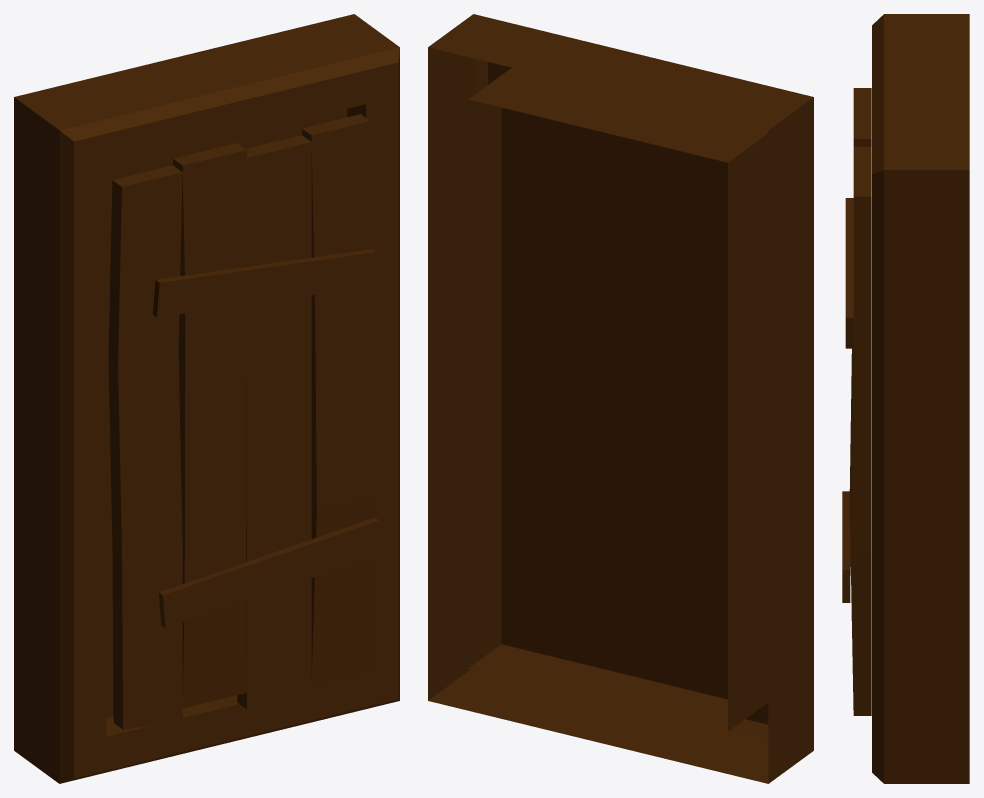
The model's file is Window_2.FBX.
The picture shows the model from 3 angles, left to right: view 1: azimuth 30°, elevation 25°; view 2: azimuth 150°, elevation 25°; view 3: azimuth 270°, elevation 25°; orthographic projection. The views are drawn at different scales.
Visible parts, largest first — view 1: Object09; view 2: Object09; view 3: Object09.
Boxes of the visible parts, <box> form: Object09: <box>14,14,399,783</box>; Object09: <box>428,14,813,783</box>; Object09: <box>842,14,969,783</box>.
Bounding box in the file's own units: 73.94 × 136 × 25.46.
